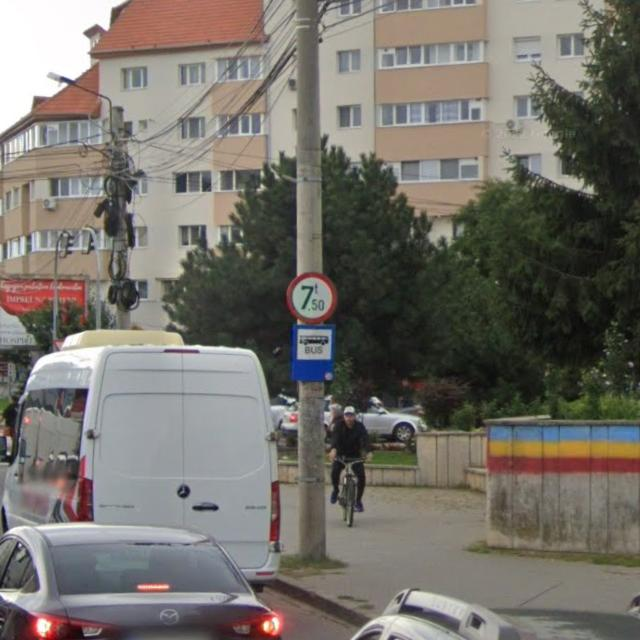forb_weight_over_7.5t: (286, 272, 338, 324)
info_bus_station: (290, 323, 337, 382)
